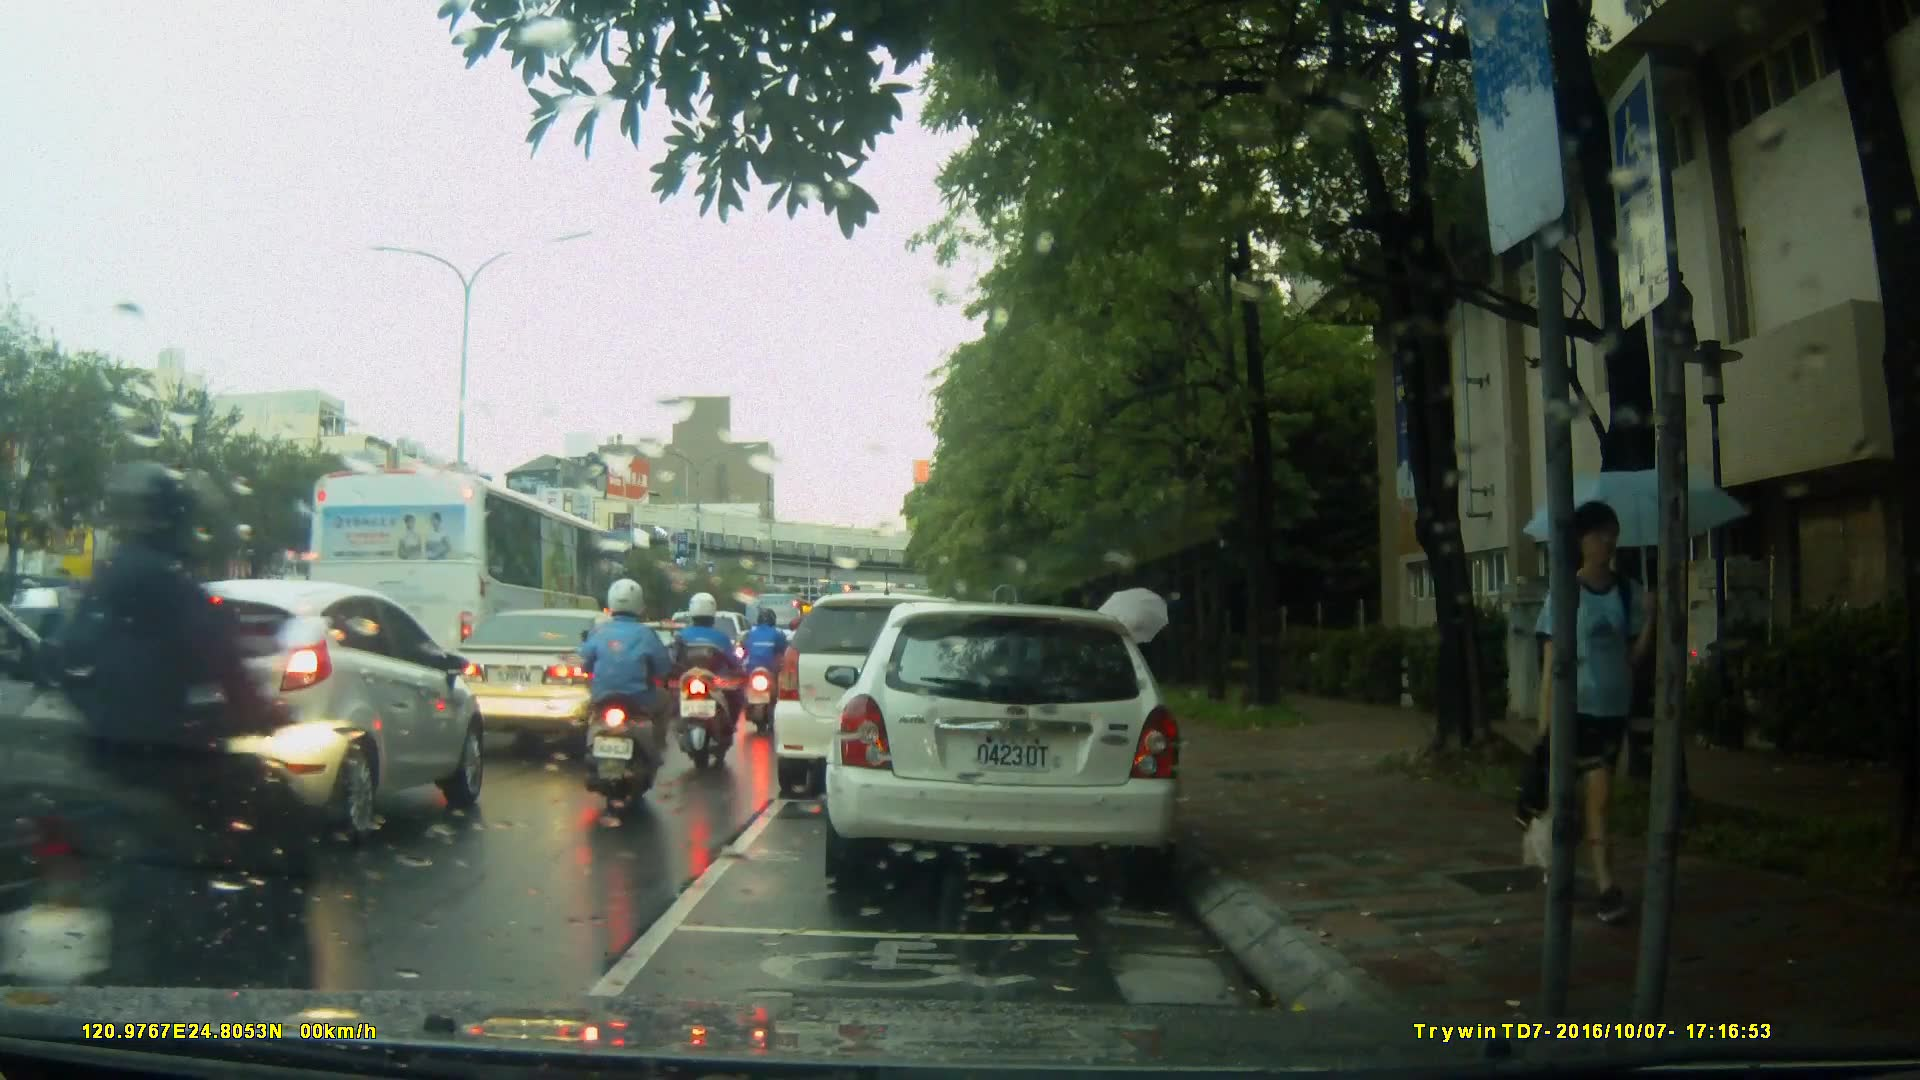pedestrian: (1510, 491, 1668, 937)
rider: (1, 453, 305, 1063), (579, 580, 691, 804), (671, 588, 747, 785), (736, 606, 790, 745)
vehicle: (835, 594, 1194, 898), (101, 576, 488, 846), (305, 467, 630, 729), (1, 547, 184, 971), (776, 590, 1026, 784), (436, 606, 673, 753), (1, 586, 155, 697), (613, 620, 719, 710)
